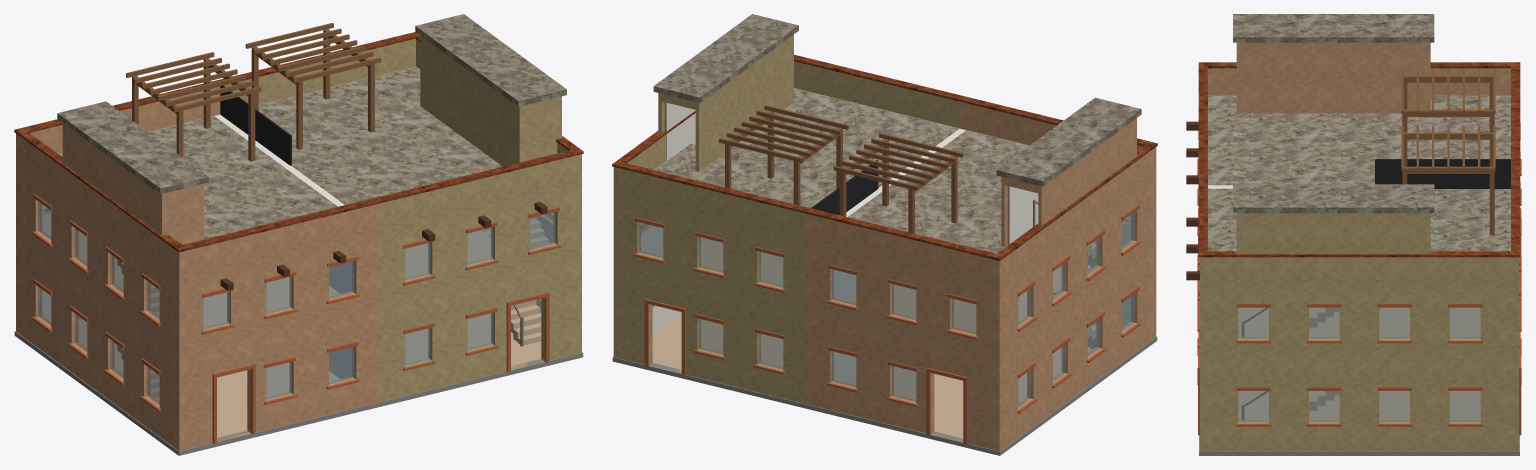
File: cr-stucco-duplex.towns-v1.lod0.glb
3 renders of one model, left to right at view 1: azimuth 30°, elevation 25°; view 2: azimuth 150°, elevation 25°; view 3: azimuth 270°, elevation 25°, orthographic. The views are drawn at different scales.
Parts seen in each view (by area): view 1: cr-stucco-duplex; view 2: cr-stucco-duplex; view 3: cr-stucco-duplex.
Part boxes in pixels (x1,y1,x2,y2): cr-stucco-duplex: (14, 14, 583, 455); cr-stucco-duplex: (612, 14, 1157, 455); cr-stucco-duplex: (1186, 14, 1521, 455).
Bounding box in the file's own units: 14.98 × 8.95 × 10.94.
Materials: 6 (2 with a texture image).
